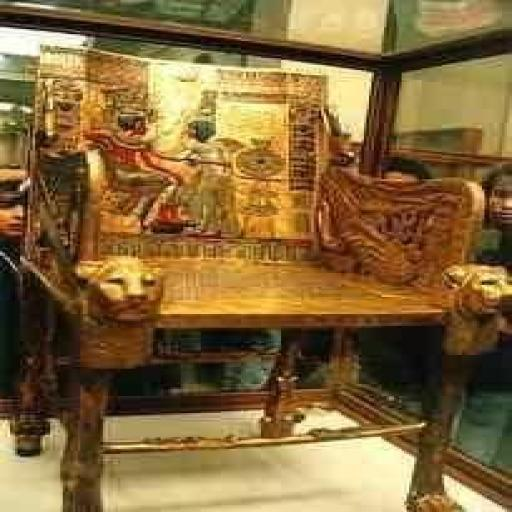chair: (5, 37, 512, 512)
